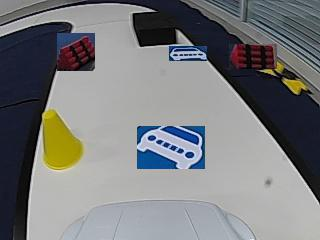block: (133, 13, 177, 46)
cone: (42, 108, 84, 170)
